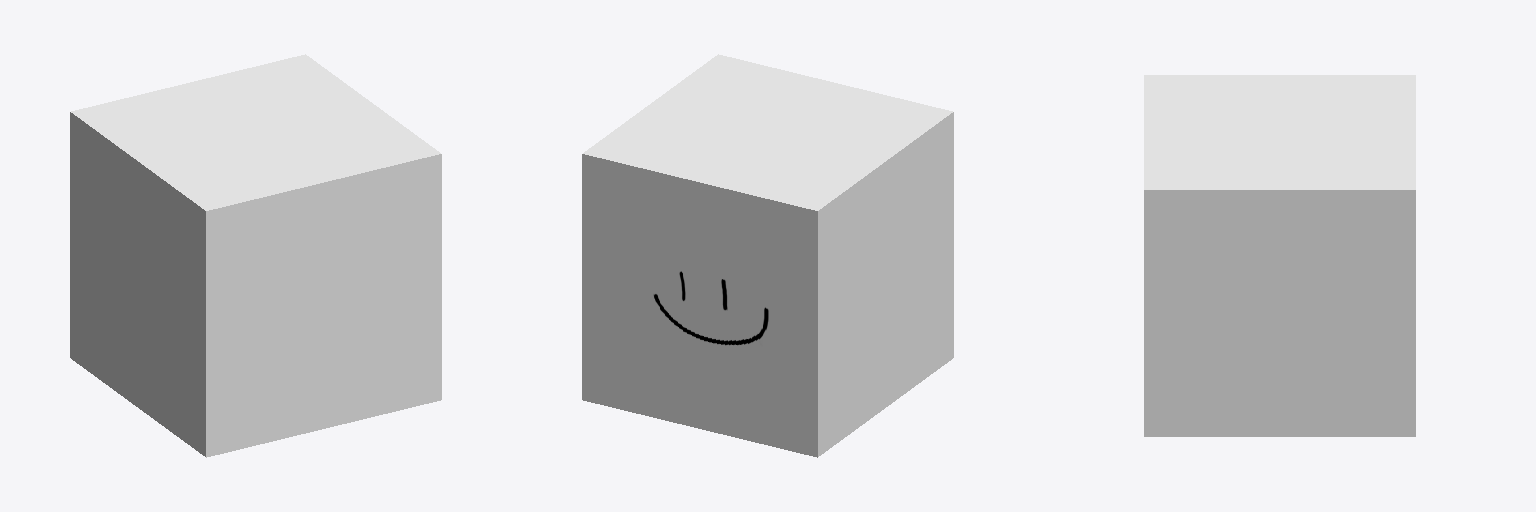
3 renders of one model, left to right at view 1: azimuth 30°, elevation 25°; view 2: azimuth 150°, elevation 25°; view 3: azimuth 270°, elevation 25°, orthographic.
Parts seen in each view (by area): view 1: Cube.001; view 2: Cube.001; view 3: Cube.001.
Boxes of the visible parts, x1=… form: Cube.001: x1=70, y1=54, x2=441, y2=457; Cube.001: x1=582, y1=54, x2=953, y2=457; Cube.001: x1=1144, y1=75, x2=1415, y2=436.
Size of the model in its own units: 1 by 1 by 1.
1 materials, 1 textured.